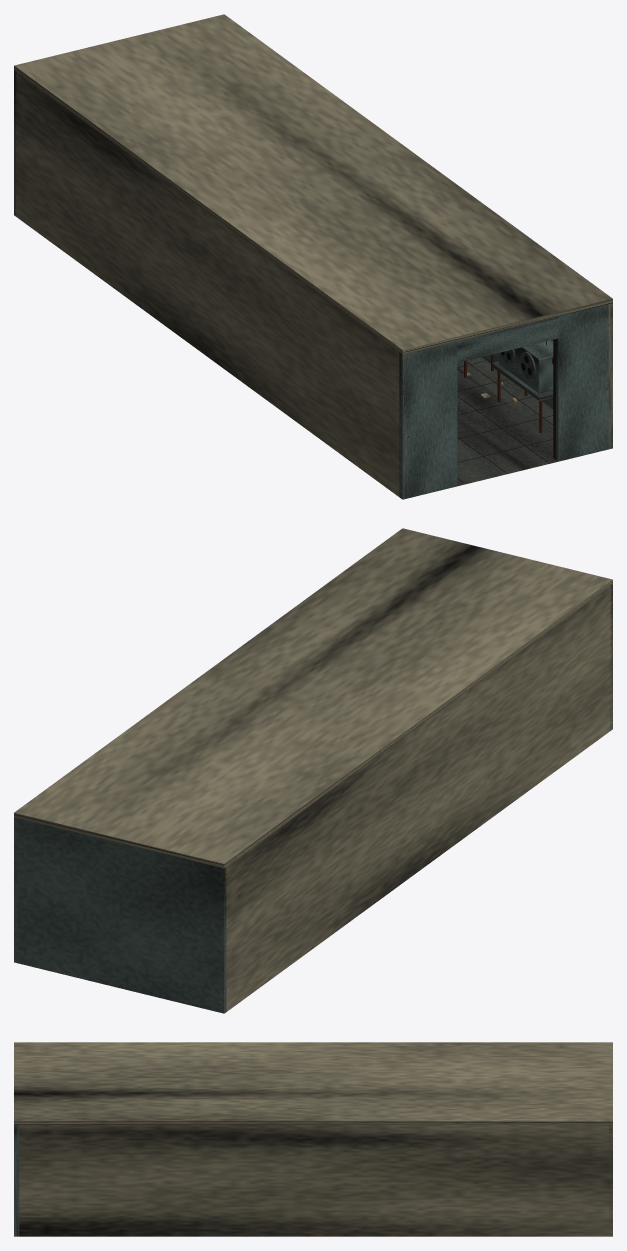
File: broadcast.glb
The picture shows the model from 3 angles, top to bottom: view 1: azimuth 30°, elevation 25°; view 2: azimuth 150°, elevation 25°; view 3: azimuth 270°, elevation 25°; orthographic projection. The views are drawn at different scales.
Parts seen in each view (by area): view 1: static-plaster, static-paint, static-stone, static-metal, static-dark, static-rust; view 2: static-plaster, static-paint; view 3: static-plaster, static-paint.
Part boxes in pixels (x1,y1,x2,y2): static-plaster: (14, 14, 612, 499); static-paint: (14, 70, 612, 499); static-stone: (457, 357, 557, 486); static-metal: (492, 349, 553, 401); static-dark: (457, 351, 553, 482); static-rust: (407, 339, 607, 459); static-plaster: (14, 528, 612, 1013); static-paint: (14, 584, 612, 1013); static-plaster: (14, 1042, 612, 1236); static-paint: (14, 1124, 612, 1236).
Size of the model in its own units: 5 by 3.4 by 16.
Materials: 13 (9 with a texture image).
